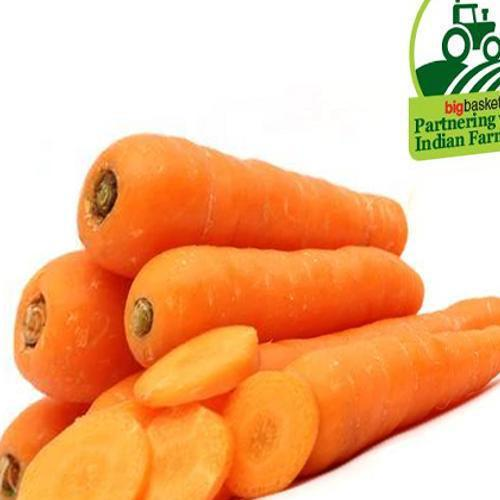carrot: (19, 134, 500, 454), (18, 248, 500, 381), (42, 125, 422, 278), (92, 229, 426, 343)
